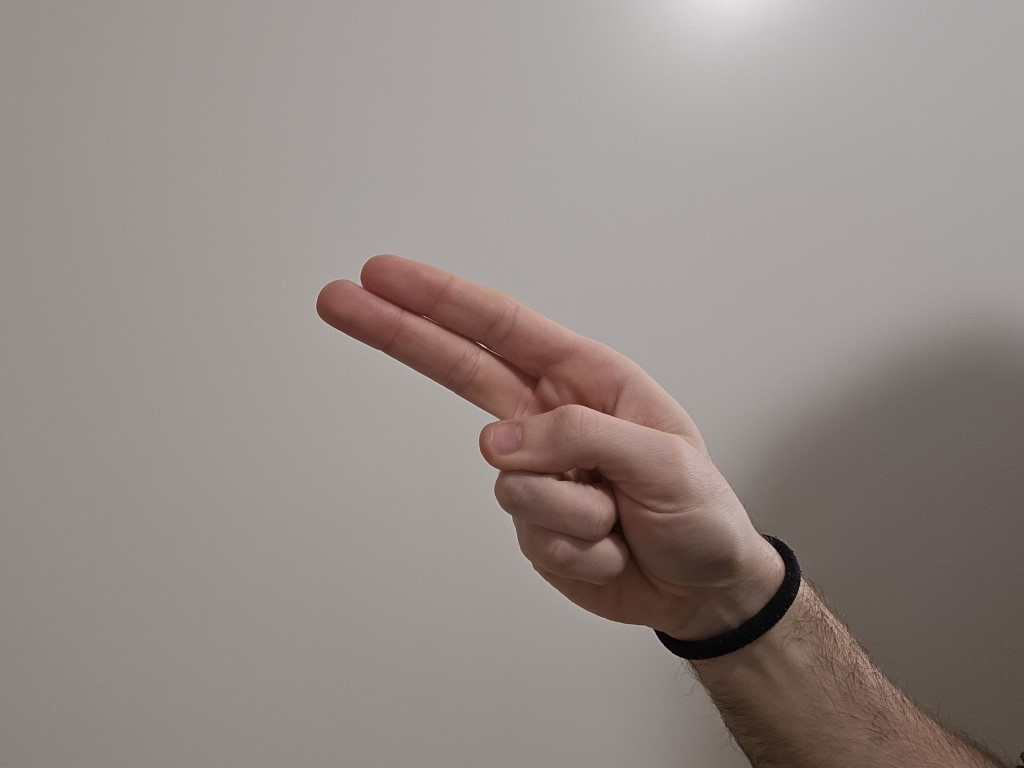h: (297, 235, 747, 618)
